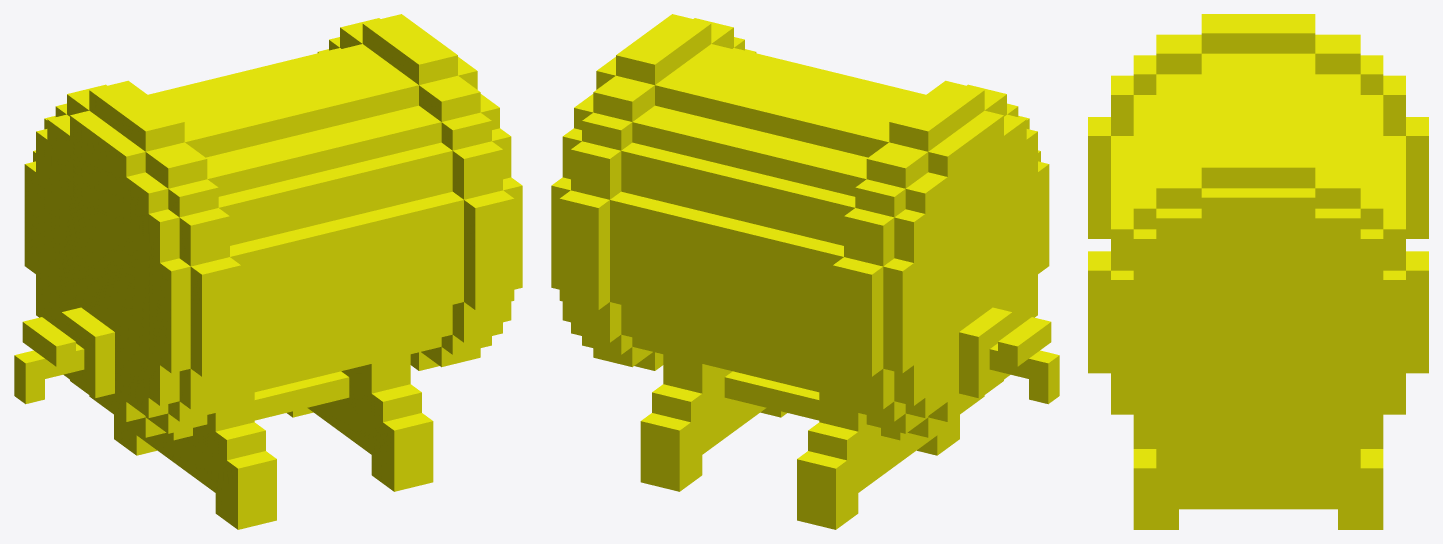
The model's file is voxel-knights-keg.glb.
3 renders of one model, left to right at view 1: azimuth 30°, elevation 25°; view 2: azimuth 150°, elevation 25°; view 3: azimuth 270°, elevation 25°, orthographic.
Parts seen in each view (by area): view 1: ObjObject.014; view 2: ObjObject.014; view 3: ObjObject.014.
Part boxes in pixels (x1,y1,x2,y2): ObjObject.014: (14, 14, 522, 529); ObjObject.014: (551, 14, 1059, 529); ObjObject.014: (1088, 14, 1428, 529).
Size of the model in its own units: 2.2 by 1.9 by 1.5.
